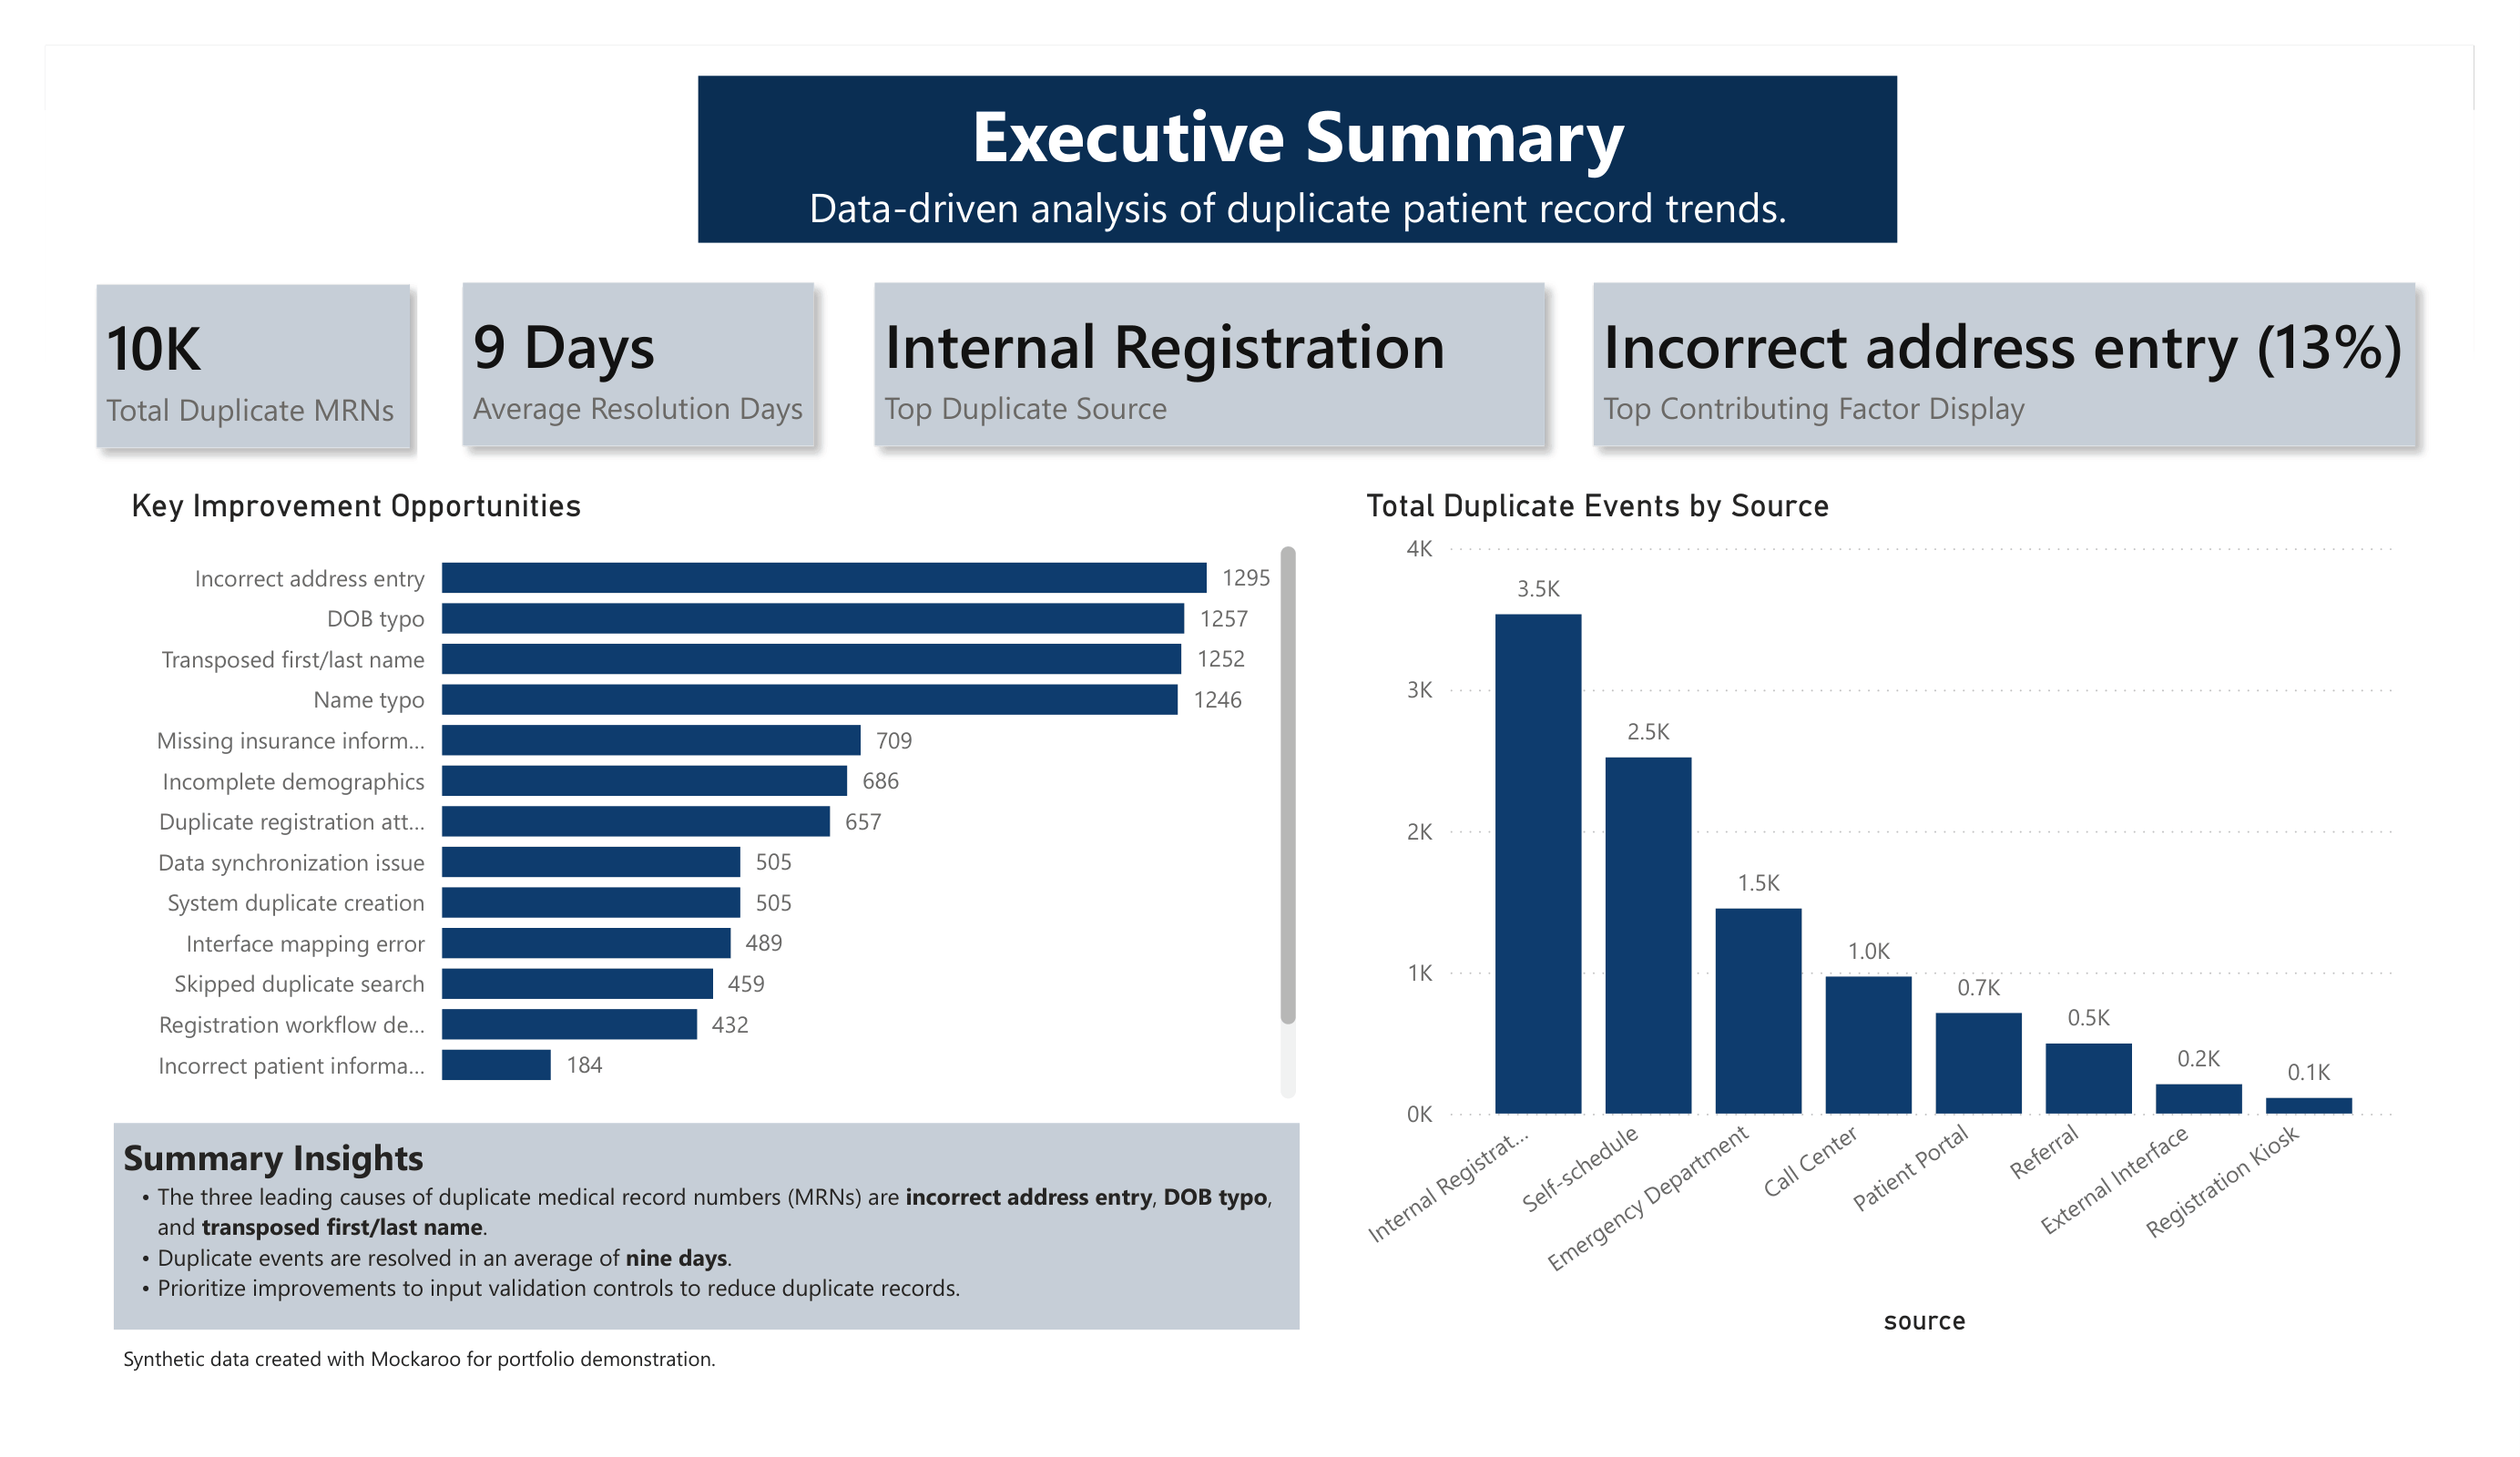

The page's visual inventory and layout, read from the dashboard file:
{"tool":"powerbi","page":{"name":"Executive Summary","canvas":[1280,720],"ordinal":0},"visuals":[{"type":"cardVisual","fields":{"Data":["_DAX.Total MRNs"]},"box":[-2.3,96.7,224,144],"z":0},{"type":"cardVisual","fields":{"Data":["_DAX.Top Contributing Factor Display"]},"box":[786.8,96.4,491.1,144.2],"z":1000},{"type":"cardVisual","fields":{"Data":["_DAX.Average Resolution Days Display"]},"box":[190.8,96.4,243.8,144.2],"z":2000},{"type":"clusteredBarChart","title":"Key Improvement Opportunities","fields":{"Y":["_DAX.Total Duplicate Events"],"Category":["dim_category.contributory_factors"]},"box":[40,232,624,328],"z":3000},{"type":"columnChart","title":"Total Duplicate Events by Source","fields":{"Category":["fact_duplicate_events.source"],"Y":["_DAX.Total Duplicate Events"]},"box":[696,232,544,448],"z":4000},{"type":"textbox","box":[36.3,568,624.7,108.8],"z":5000},{"type":"textbox","box":[36.3,676.8,624.7,35.1],"z":6000},{"type":"cardVisual","fields":{"Data":["_DAX.Top Duplicate Source"]},"box":[407.5,96.4,411.6,144.2],"z":7000},{"type":"textbox","box":[344,16,632,88],"z":8000}]}

Visuals, with their boxes on the page's 1280x720 design canvas (x1, y1, x2, y2). These are canvas units, not pixel positions in the 2520x1457 screenshot, which may show the page scaled, cropped or inside an application window:
cardVisual - _DAX.Total MRNs: {"x1": -2, "y1": 97, "x2": 222, "y2": 241}
cardVisual - _DAX.Top Contributing Factor Display: {"x1": 787, "y1": 96, "x2": 1278, "y2": 241}
cardVisual - _DAX.Average Resolution Days Display: {"x1": 191, "y1": 96, "x2": 435, "y2": 241}
"Key Improvement Opportunities" clusteredBarChart: {"x1": 40, "y1": 232, "x2": 664, "y2": 560}
"Total Duplicate Events by Source" columnChart: {"x1": 696, "y1": 232, "x2": 1240, "y2": 680}
textbox: {"x1": 36, "y1": 568, "x2": 661, "y2": 677}
textbox: {"x1": 36, "y1": 677, "x2": 661, "y2": 712}
cardVisual - _DAX.Top Duplicate Source: {"x1": 408, "y1": 96, "x2": 819, "y2": 241}
textbox: {"x1": 344, "y1": 16, "x2": 976, "y2": 104}
